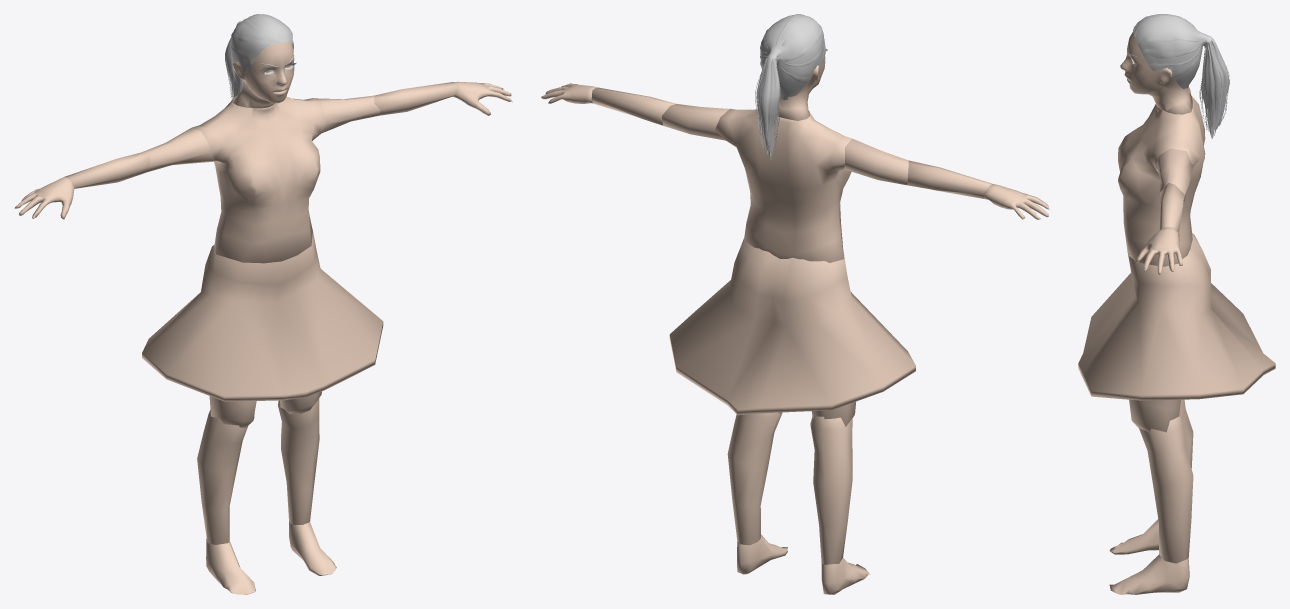
The model's file is dudette.dae.
The picture shows the model from 3 angles, left to right: view 1: azimuth 30°, elevation 25°; view 2: azimuth 150°, elevation 25°; view 3: azimuth 270°, elevation 25°; orthographic projection. The views are drawn at different scales.
Visible parts, largest first — view 1: pelvis, torso, head, knee-right, knee-left, arm-right, forearm-right, forearm-left, foot-right, foot-left, arm-left, hand-right (+2 smaller); view 2: pelvis, torso, head, knee-right, knee-left, arm-right, forearm-right, forearm-left, arm-left, hand-right, foot-right, foot-left (+1 smaller); view 3: pelvis, head, torso, knee-left, foot-left, thigh-left, hand-left, arm-left, forearm-left, foot-right, knee-right.
Boxes of the visible parts, x1=… form: pelvis: x1=142, y1=231, x2=383, y2=401; torso: x1=192, y1=96, x2=325, y2=263; head: x1=225, y1=14, x2=296, y2=108; knee-right: x1=197, y1=410, x2=247, y2=544; knee-left: x1=278, y1=398, x2=319, y2=524; arm-right: x1=141, y1=127, x2=217, y2=172; forearm-right: x1=65, y1=152, x2=150, y2=188; forearm-left: x1=374, y1=82, x2=456, y2=115; foot-right: x1=206, y1=538, x2=255, y2=594; foot-left: x1=289, y1=521, x2=336, y2=575; arm-left: x1=314, y1=95, x2=380, y2=132; hand-right: x1=14, y1=177, x2=74, y2=219; pelvis: x1=669, y1=239, x2=915, y2=415; torso: x1=715, y1=108, x2=851, y2=262; head: x1=755, y1=14, x2=827, y2=160; knee-right: x1=810, y1=416, x2=852, y2=564; knee-left: x1=727, y1=412, x2=782, y2=545; arm-right: x1=844, y1=138, x2=908, y2=185; forearm-right: x1=907, y1=160, x2=992, y2=198; forearm-left: x1=591, y1=87, x2=676, y2=125; arm-left: x1=662, y1=104, x2=729, y2=140; hand-right: x1=983, y1=184, x2=1049, y2=219; foot-right: x1=821, y1=557, x2=870, y2=594; foot-left: x1=737, y1=534, x2=787, y2=574; pelvis: x1=1078, y1=233, x2=1275, y2=400; head: x1=1120, y1=14, x2=1229, y2=138; torso: x1=1118, y1=96, x2=1205, y2=266; knee-left: x1=1139, y1=415, x2=1193, y2=563; foot-left: x1=1109, y1=554, x2=1189, y2=594; thigh-left: x1=1129, y1=399, x2=1180, y2=432; hand-left: x1=1136, y1=227, x2=1182, y2=274; arm-left: x1=1156, y1=148, x2=1192, y2=201; forearm-left: x1=1159, y1=183, x2=1184, y2=231; foot-right: x1=1109, y1=519, x2=1158, y2=554; knee-right: x1=1179, y1=399, x2=1193, y2=467.
Size of the model in its own units: 42.51 by 14.59 by 45.3.
